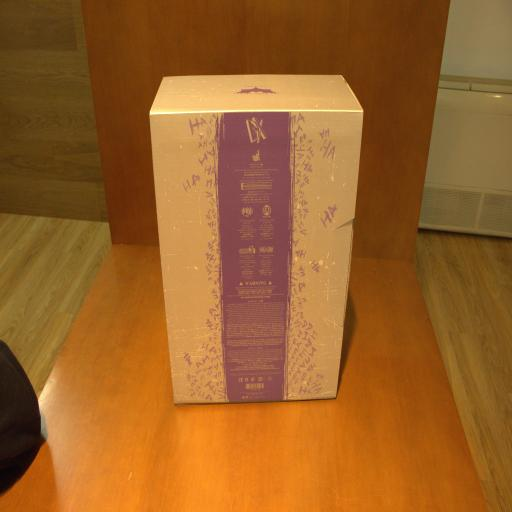Joker: (150, 73, 355, 408)
